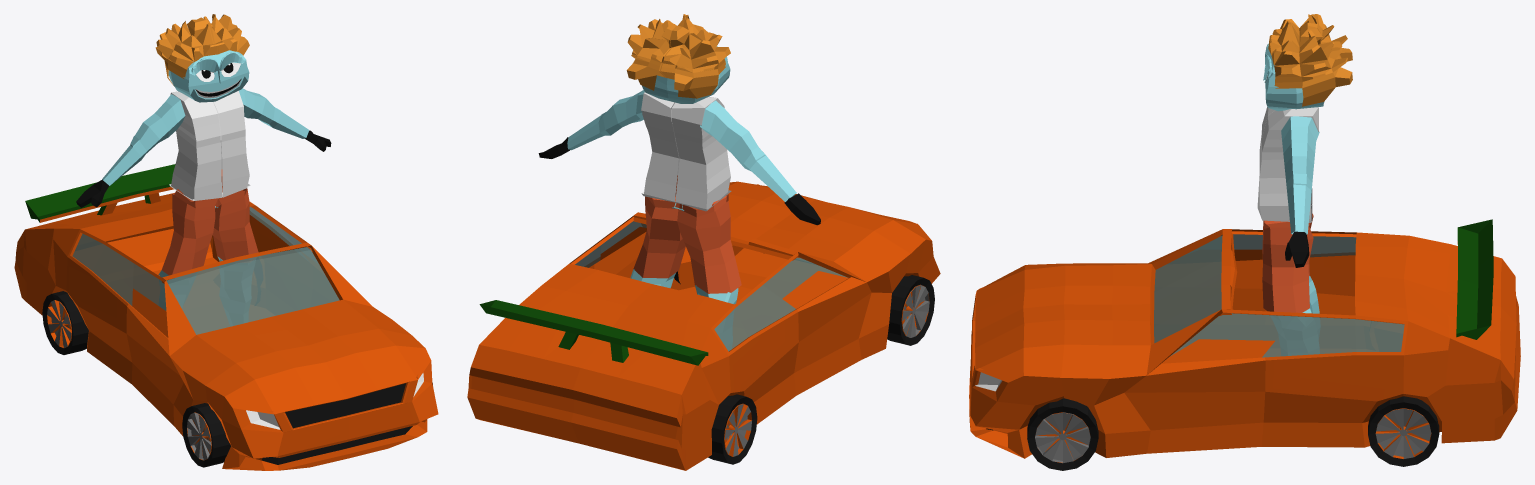
The model's file is temoc_with_car.fbx.
3 views of the same model, side by side, from view 1: azimuth 30°, elevation 25°; view 2: azimuth 150°, elevation 25°; view 3: azimuth 270°, elevation 25° (orthographic). The views are drawn at different scales.
Visible parts, largest first — view 1: Cube, Body; view 2: Cube, Body; view 3: Cube, Body.
Part boxes in pixels (x1,y1,x2,y2): Cube: (14, 164, 438, 470); Body: (76, 14, 331, 277); Cube: (467, 181, 940, 470); Body: (538, 14, 820, 304); Cube: (969, 219, 1520, 470); Body: (1257, 14, 1352, 313).
Size of the model in its own units: 262 by 337 by 434.
